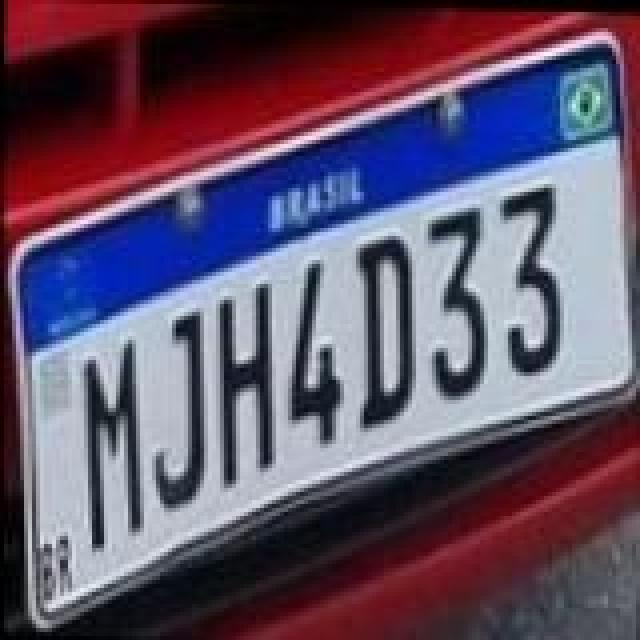3: (424, 202, 492, 406), (496, 178, 564, 378)
4: (284, 256, 344, 448)
D: (352, 230, 420, 438)
H: (210, 278, 278, 490)
J: (154, 304, 214, 512)
M: (78, 336, 146, 556)
